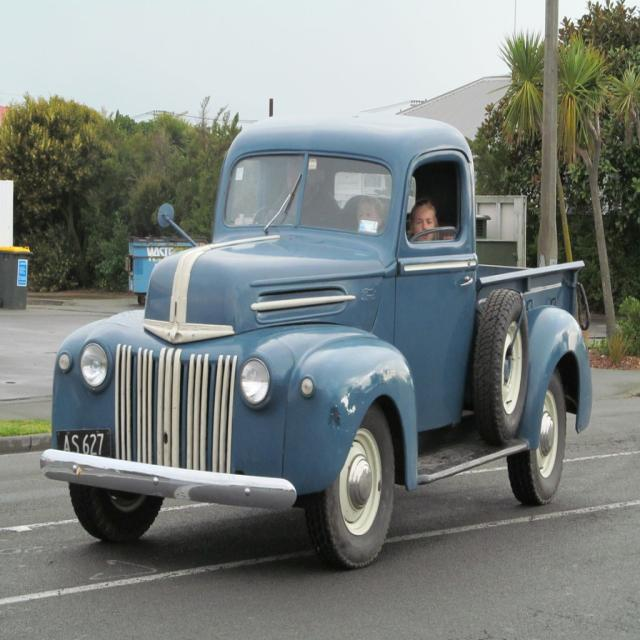car: (36, 109, 590, 570)
